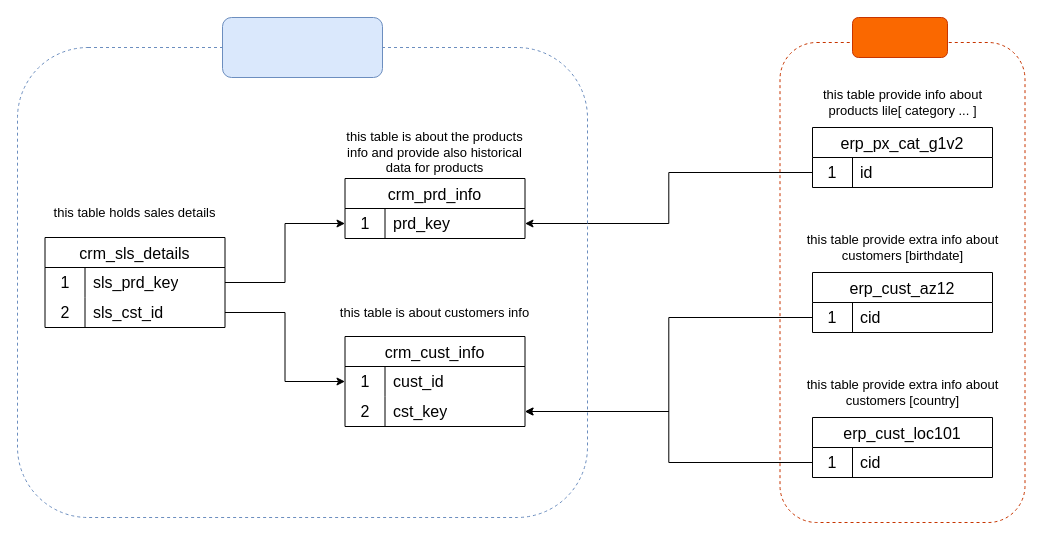
Some shapes in this 1043 by 540 pixel diagram are drawn without their labels. Here are the shapes that lost their labels. From the top down, the centre of each, then its label:
the point at 302,47: CRM
the point at 900,37: ERP
